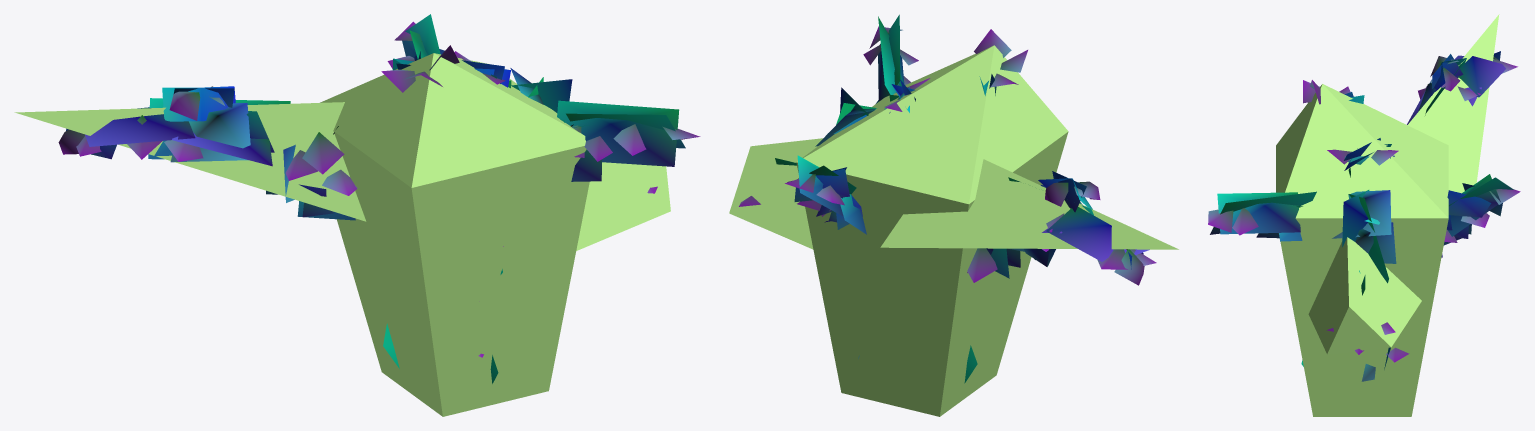
Rendered from tro_bush_2_small.dae.
The picture shows the model from 3 angles, left to right: view 1: azimuth 30°, elevation 25°; view 2: azimuth 150°, elevation 25°; view 3: azimuth 270°, elevation 25°; orthographic projection. The views are drawn at different scales.
Parts seen in each view (by area): view 1: Colmesh-1, tree_oak_bush_a550, tree_oak_bush_a250; view 2: Colmesh-1, tree_oak_bush_a550, tree_oak_bush_a250; view 3: Colmesh-1, tree_oak_bush_a550, tree_oak_bush_a250.
Part boxes in pixels (x1=…): Colmesh-1: x1=14, y1=53, x2=670, y2=416; tree_oak_bush_a550: x1=58, y1=14, x2=684, y2=383; tree_oak_bush_a250: x1=66, y1=22, x2=700, y2=368; Colmesh-1: x1=729, y1=45, x2=1178, y2=416; tree_oak_bush_a550: x1=739, y1=14, x2=1156, y2=383; tree_oak_bush_a250: x1=739, y1=27, x2=1143, y2=278; Colmesh-1: x1=1276, y1=14, x2=1499, y2=416; tree_oak_bush_a550: x1=1208, y1=51, x2=1519, y2=381; tree_oak_bush_a250: x1=1208, y1=51, x2=1520, y2=367.
Bounding box in the file's own units: 9.86 × 5.98 × 6.36.
